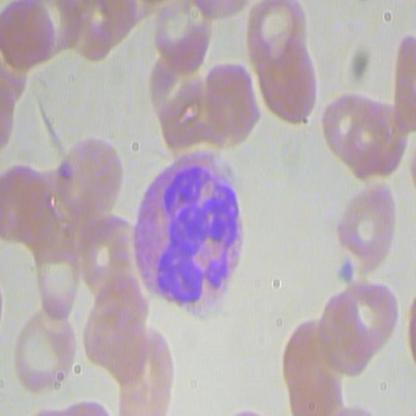Platelets: (333, 258, 357, 286)
RBC: (336, 274, 406, 366), (58, 128, 128, 220), (332, 181, 401, 273), (250, 37, 319, 129), (197, 56, 266, 148), (12, 304, 80, 395)
WBC: (122, 143, 252, 317)
